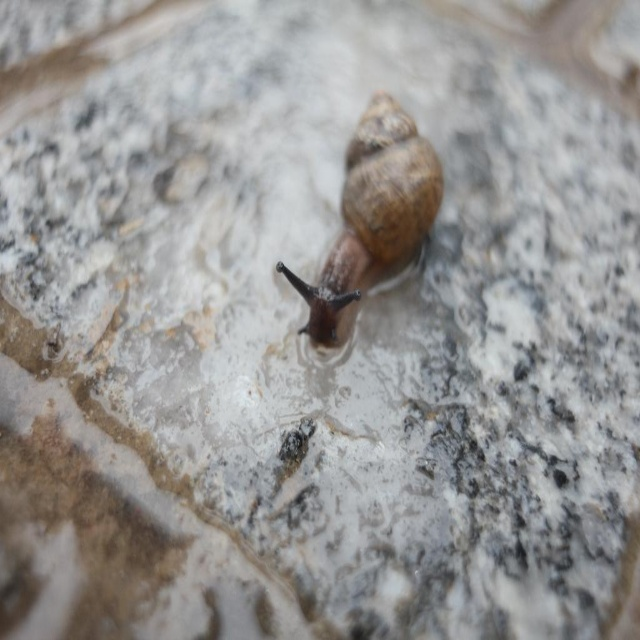Snail: (275, 83, 448, 350)
